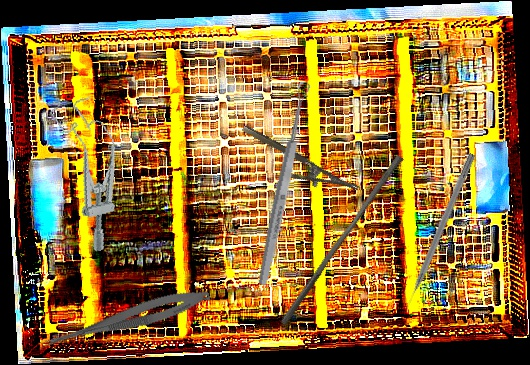Micro Scissor: (35, 282, 213, 360)
Needle Holder: (233, 123, 360, 209)
Pusher: (280, 150, 404, 331), (399, 151, 477, 315)
Speculum: (47, 89, 138, 255)
Surgical Spoon: (255, 80, 313, 287)
